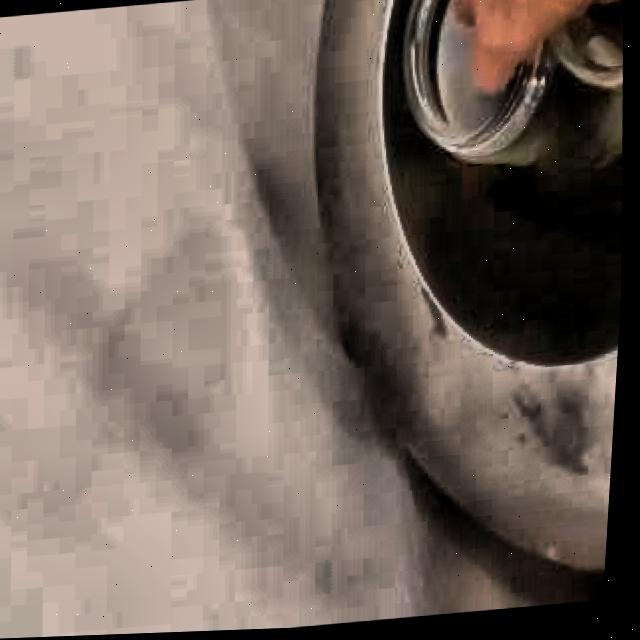glass: (405, 0, 625, 169)
